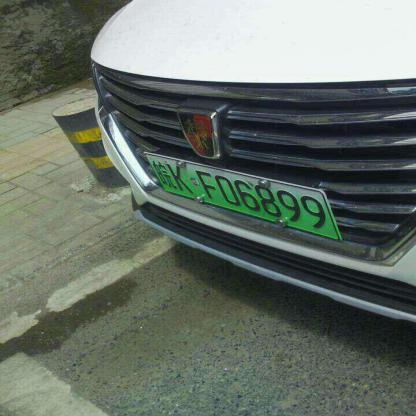lp: (142, 152, 336, 239)
